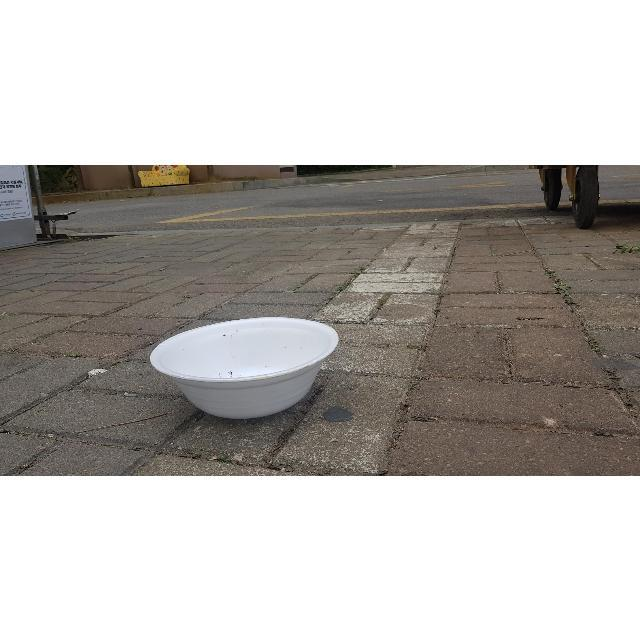Recipiente plastico: (150, 319, 339, 418)
